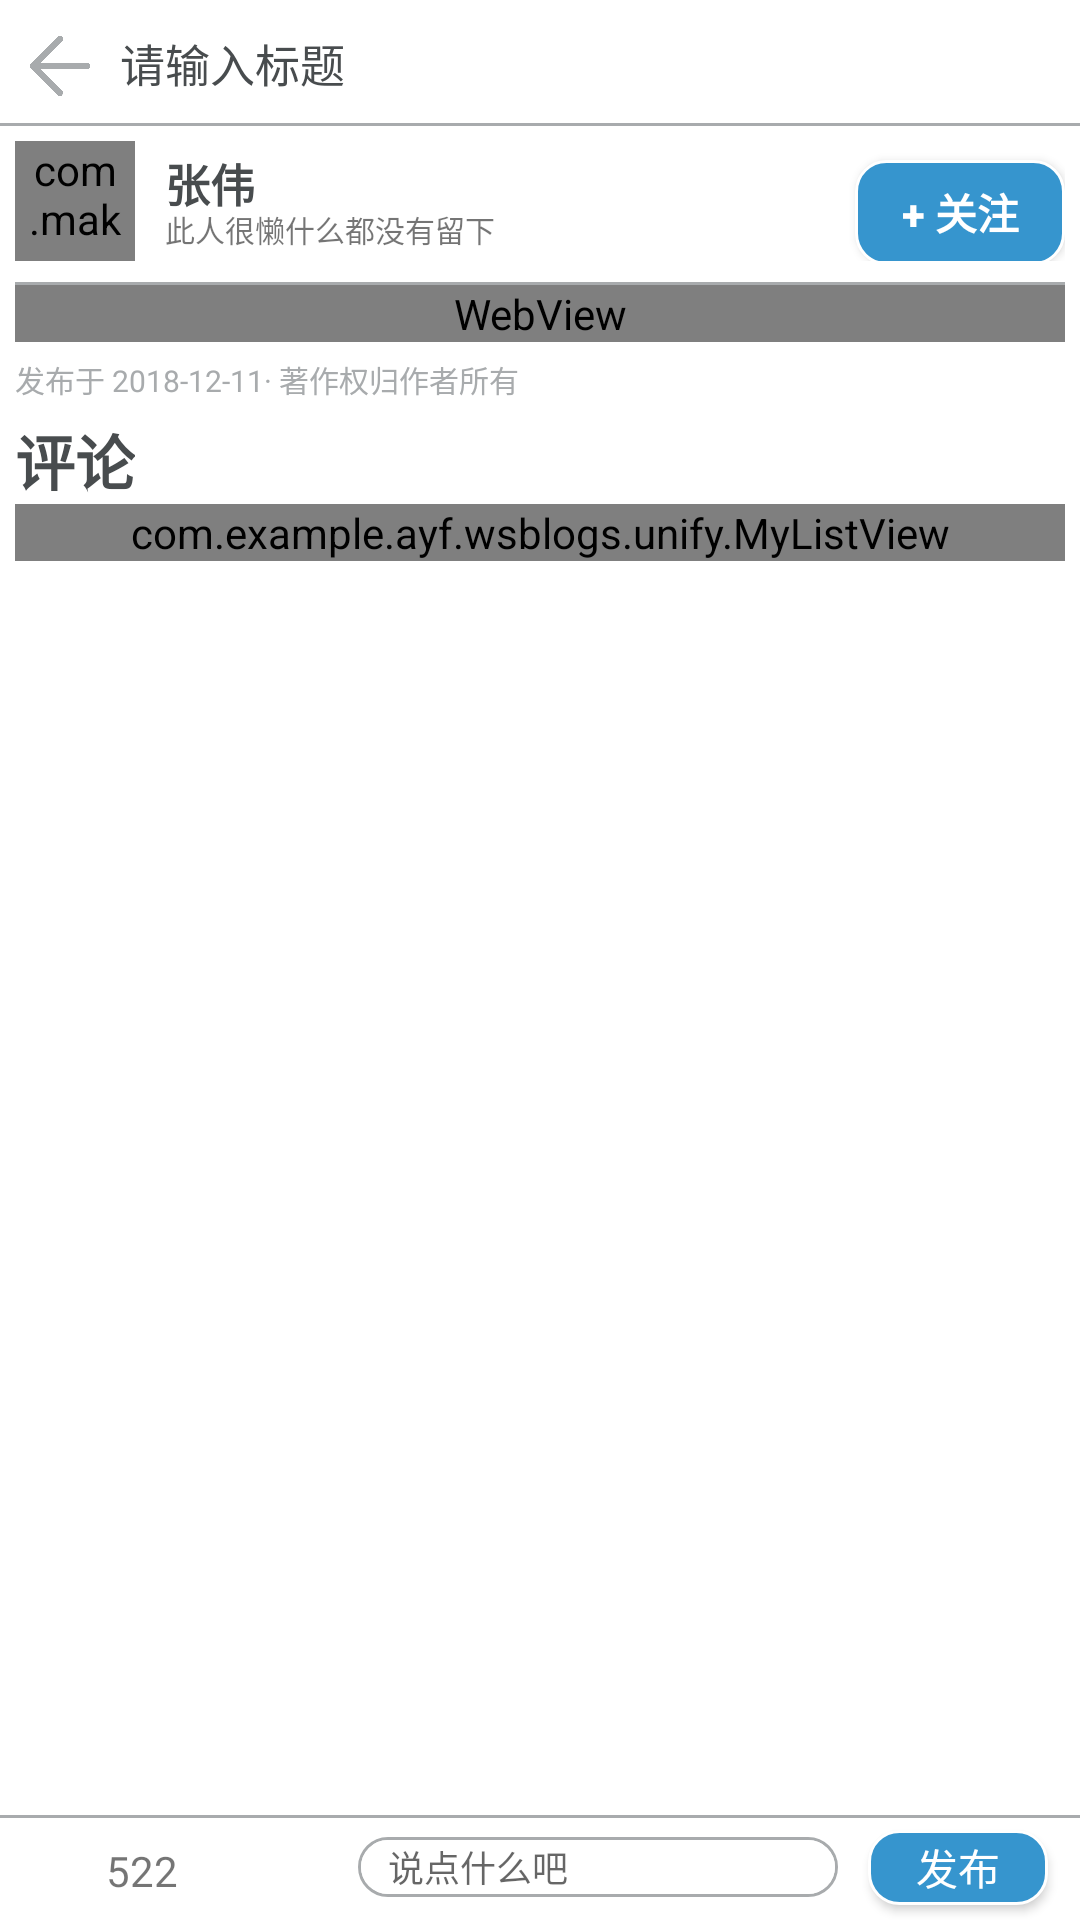

Named icons in this screenshot (1080 x 1920) and their bounding boxes, (x1, y1, x2, y2):
back: (30, 36, 90, 96)
